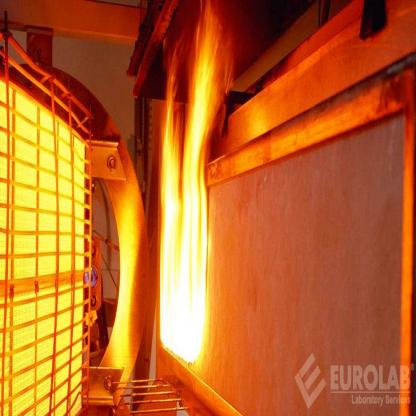fire: (148, 2, 226, 365)
